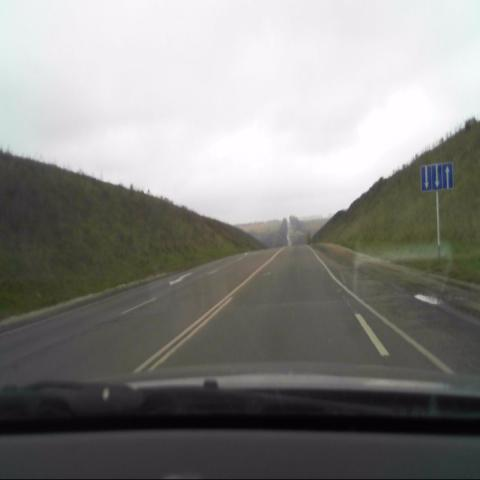5_15_7: (419, 164, 452, 189)
